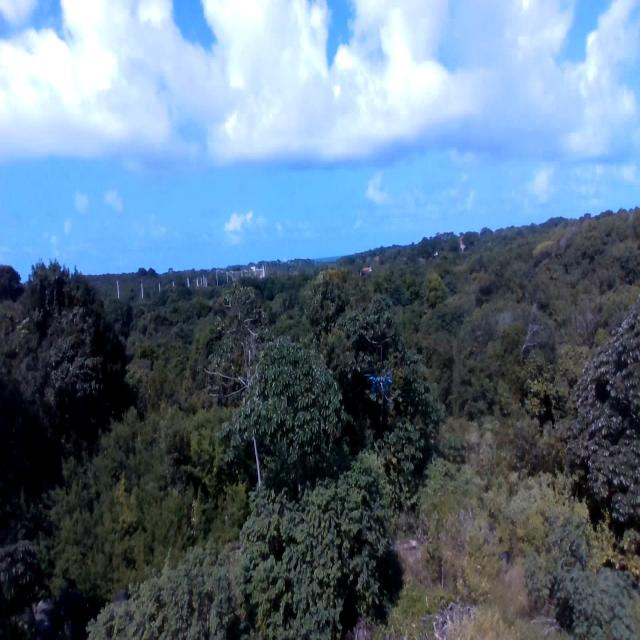-uav-: (367, 360, 393, 410)
